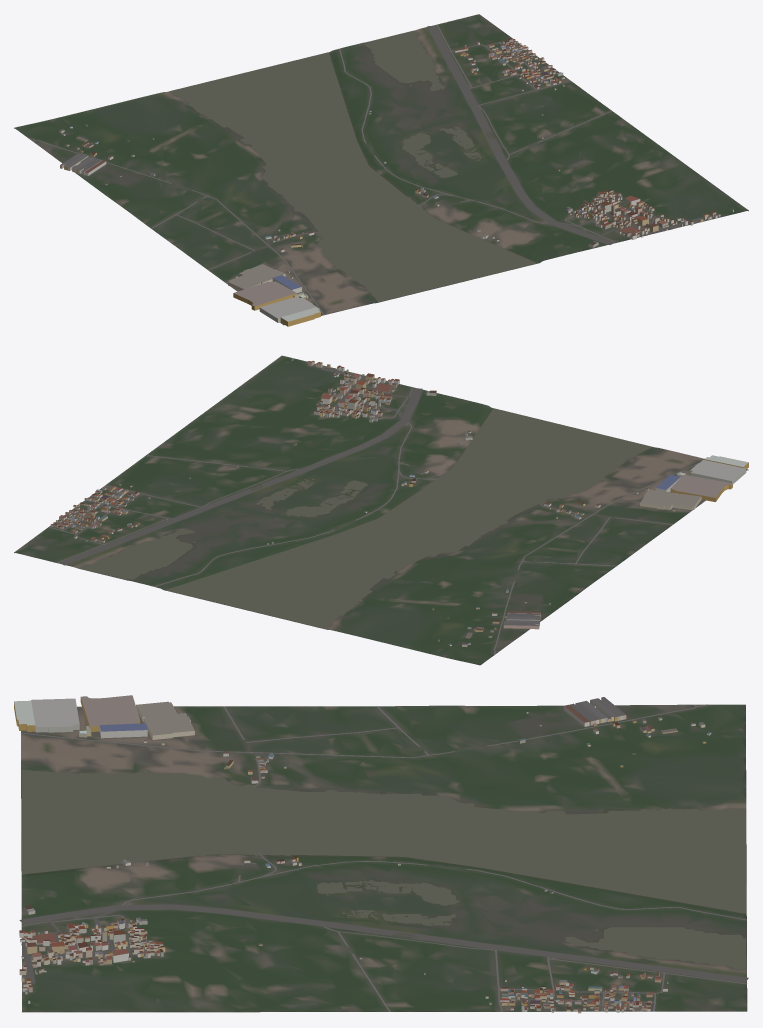
3 renders of one model, top to bottom at view 1: azimuth 30°, elevation 25°; view 2: azimuth 150°, elevation 25°; view 3: azimuth 270°, elevation 25°, orthographic. The views are drawn at different scales.
Visible parts, largest first — view 1: ground, water, buildings, roads; view 2: ground, water, buildings, roads; view 3: ground, water, buildings, roads.
Boxes of the visible parts, x1=… form: ground: x1=14, y1=14, x2=748, y2=325; water: x1=127, y1=30, x2=536, y2=302; buildings: x1=59, y1=38, x2=733, y2=326; roads: x1=28, y1=24, x2=704, y2=315; ground: x1=14, y1=355, x2=748, y2=665; water: x1=80, y1=408, x2=652, y2=628; buildings: x1=50, y1=358, x2=748, y2=646; roads: x1=48, y1=366, x2=698, y2=655; ground: x1=21, y1=704, x2=747, y2=1012; water: x1=21, y1=753, x2=746, y2=968; buildings: x1=14, y1=695, x2=711, y2=1013; roads: x1=19, y1=704, x2=748, y2=1011.
Size of the model in its own units: 1434 by 30.56 by 1421.
